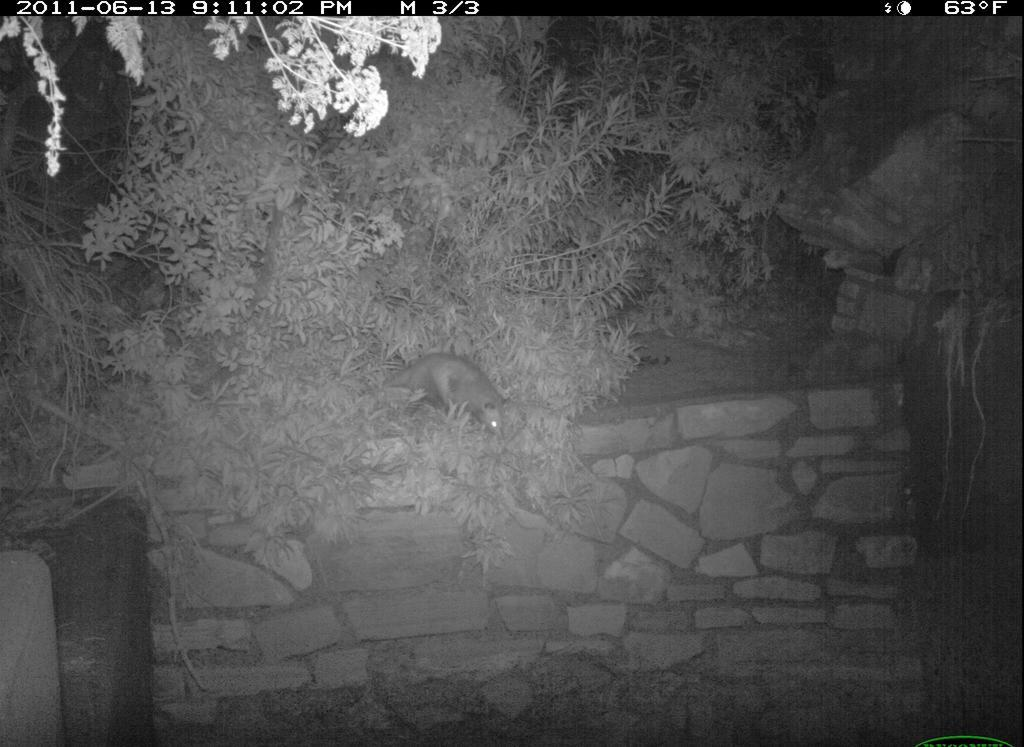opossum: (367, 340, 528, 443)
